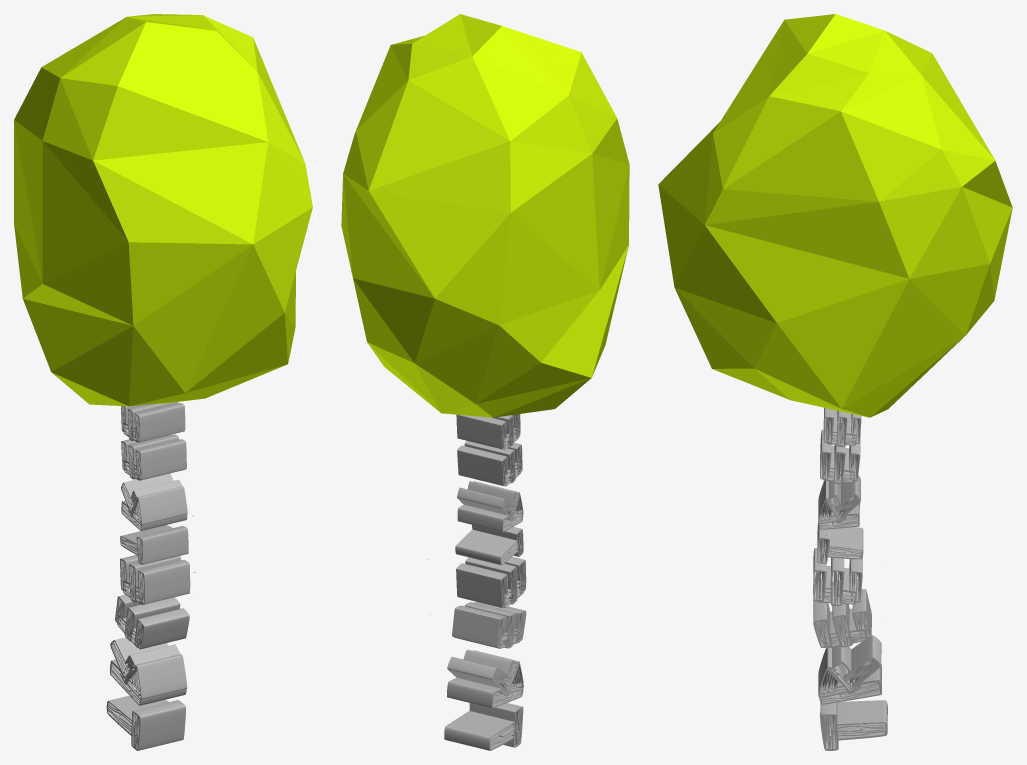
The model's file is typetree3.fbx.
3 renders of one model, left to right at view 1: azimuth 30°, elevation 25°; view 2: azimuth 150°, elevation 25°; view 3: azimuth 270°, elevation 25°, orthographic.
Parts seen in each view (by area): view 1: pCube3, polySurface51, polySurface50, polySurface55, polySurface52, polySurface53, polySurface56, polySurface57, polySurface54; view 2: pCube3, polySurface51, polySurface53, polySurface50, polySurface52, polySurface55, polySurface56, polySurface54, polySurface57; view 3: pCube3, polySurface51, polySurface50, polySurface52, polySurface53, polySurface55, polySurface56, polySurface54, polySurface57.
Boxes of the visible parts, bbox=[...] form: pCube3: bbox=[14, 14, 312, 406]; polySurface51: bbox=[110, 637, 187, 705]; polySurface50: bbox=[106, 695, 185, 750]; polySurface55: bbox=[121, 473, 187, 530]; polySurface52: bbox=[115, 594, 189, 649]; polySurface53: bbox=[120, 555, 190, 604]; polySurface56: bbox=[121, 434, 186, 480]; polySurface57: bbox=[121, 402, 185, 442]; polySurface54: bbox=[120, 525, 188, 564]; pCube3: bbox=[341, 14, 629, 417]; polySurface51: bbox=[447, 649, 523, 708]; polySurface53: bbox=[456, 556, 526, 608]; polySurface50: bbox=[444, 703, 523, 750]; polySurface52: bbox=[452, 601, 526, 648]; polySurface55: bbox=[457, 481, 523, 532]; polySurface56: bbox=[457, 441, 522, 486]; polySurface54: bbox=[455, 524, 523, 565]; polySurface57: bbox=[456, 414, 520, 449]; pCube3: bbox=[658, 14, 1012, 417]; polySurface51: bbox=[818, 635, 881, 704]; polySurface50: bbox=[820, 700, 887, 750]; polySurface52: bbox=[813, 589, 871, 648]; polySurface53: bbox=[813, 548, 862, 606]; polySurface55: bbox=[818, 475, 860, 529]; polySurface56: bbox=[820, 429, 860, 484]; polySurface54: bbox=[817, 521, 863, 563]; polySurface57: bbox=[823, 407, 861, 447].
Bounding box in the file's own units: 187 × 567 × 253.
